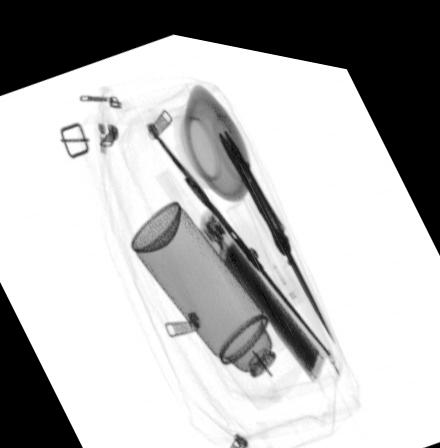Knife: (217, 116, 338, 328)
Powerbank: (197, 196, 328, 370)
Scissors: (153, 122, 333, 347)
Sprayer: (131, 193, 301, 398)
